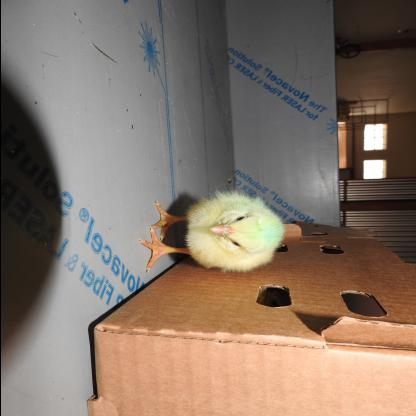Chickrotationtrack_idkeyframe: (154, 192, 280, 268)
